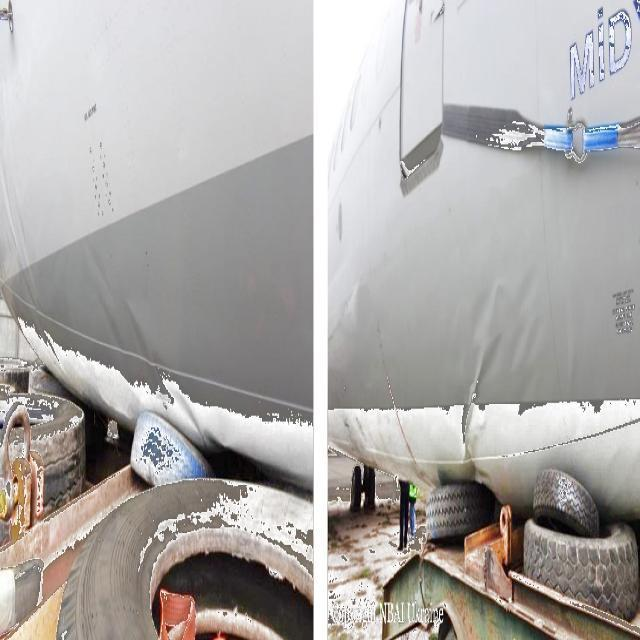dent: (89, 223, 181, 438), (461, 264, 542, 493)
